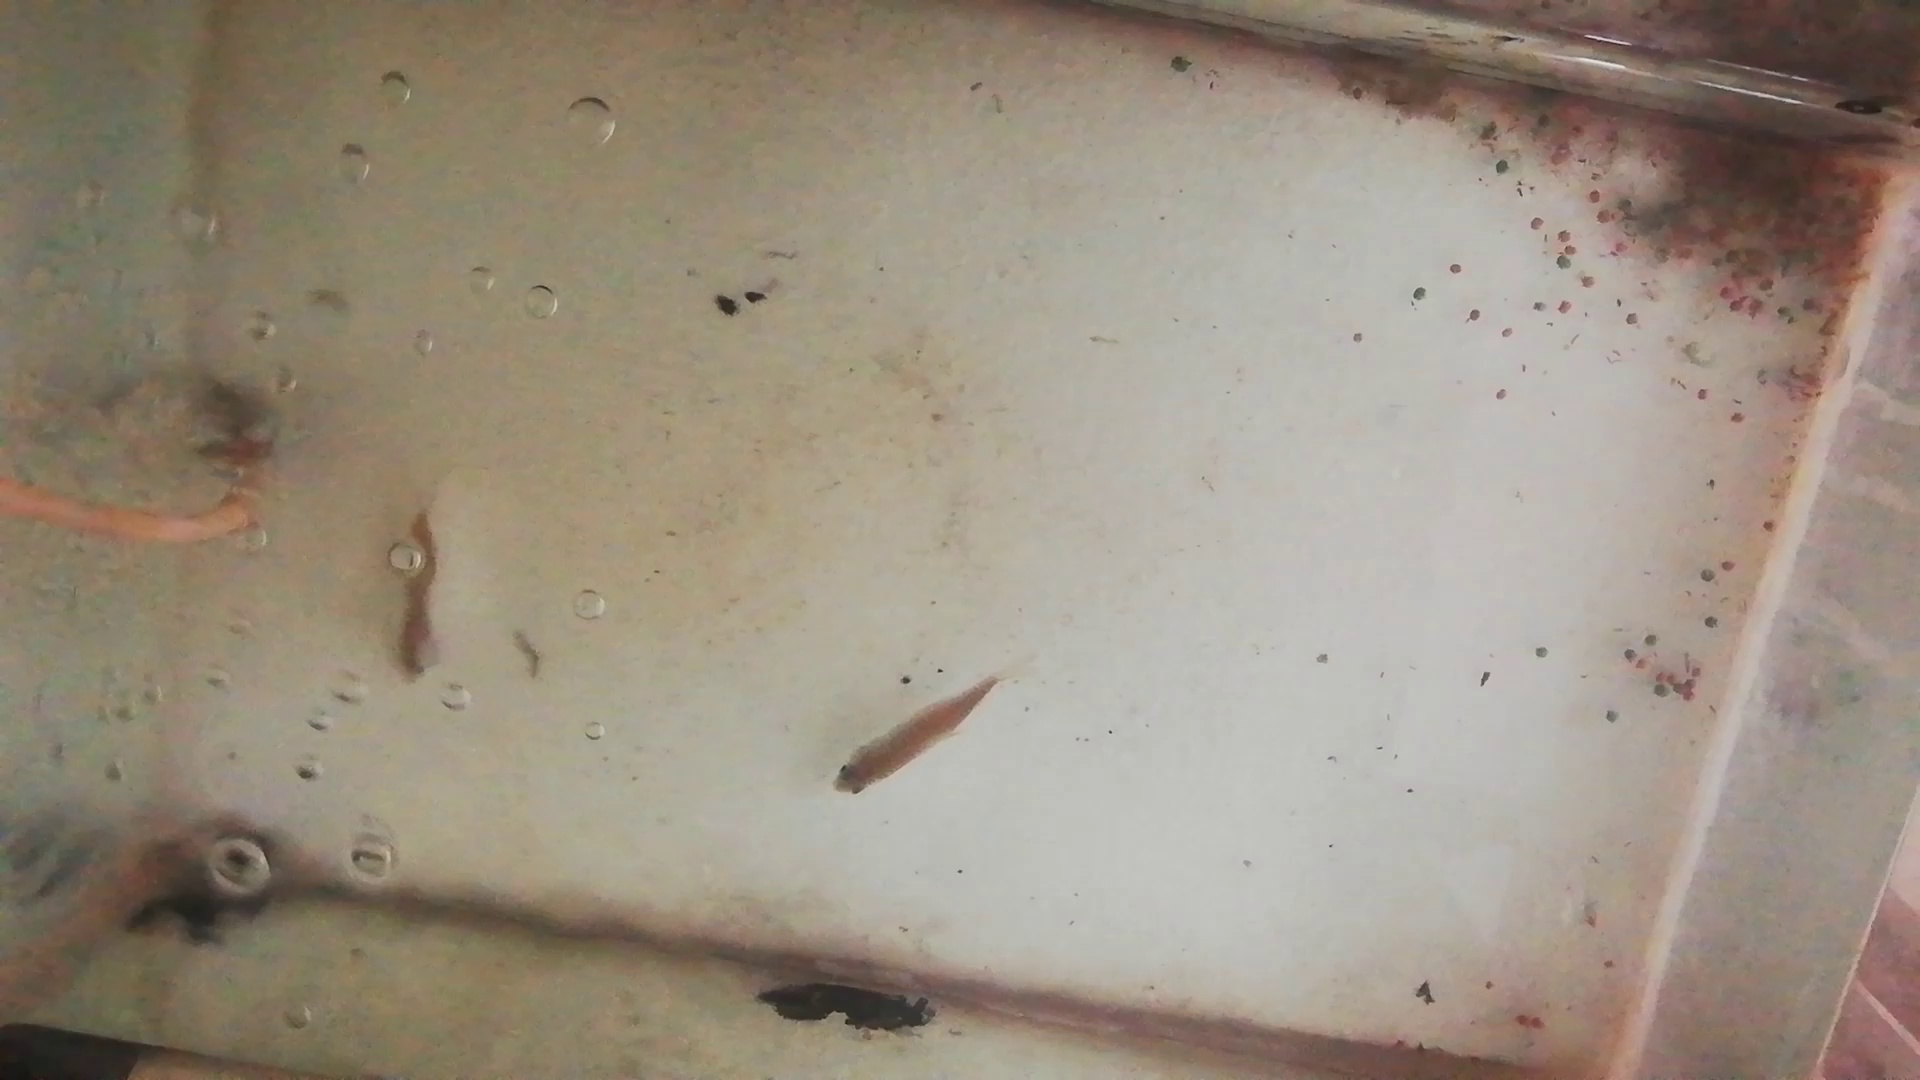fish: (828, 673, 1004, 793), (392, 506, 442, 680)
